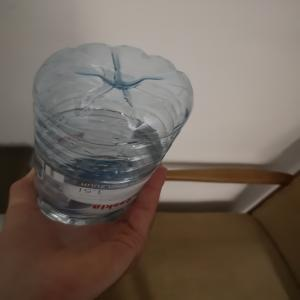Plastic-bottle: (31, 42, 197, 230)
